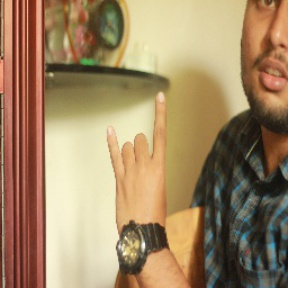V: (101, 87, 177, 230)
